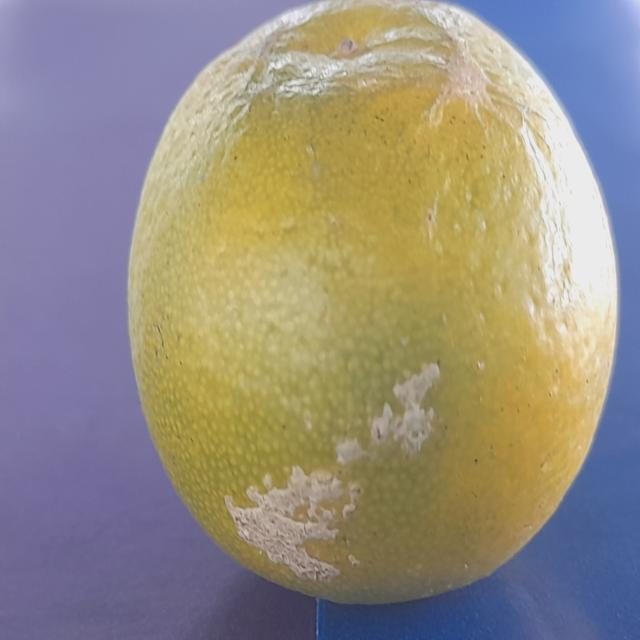thrips: (125, 0, 629, 599)
